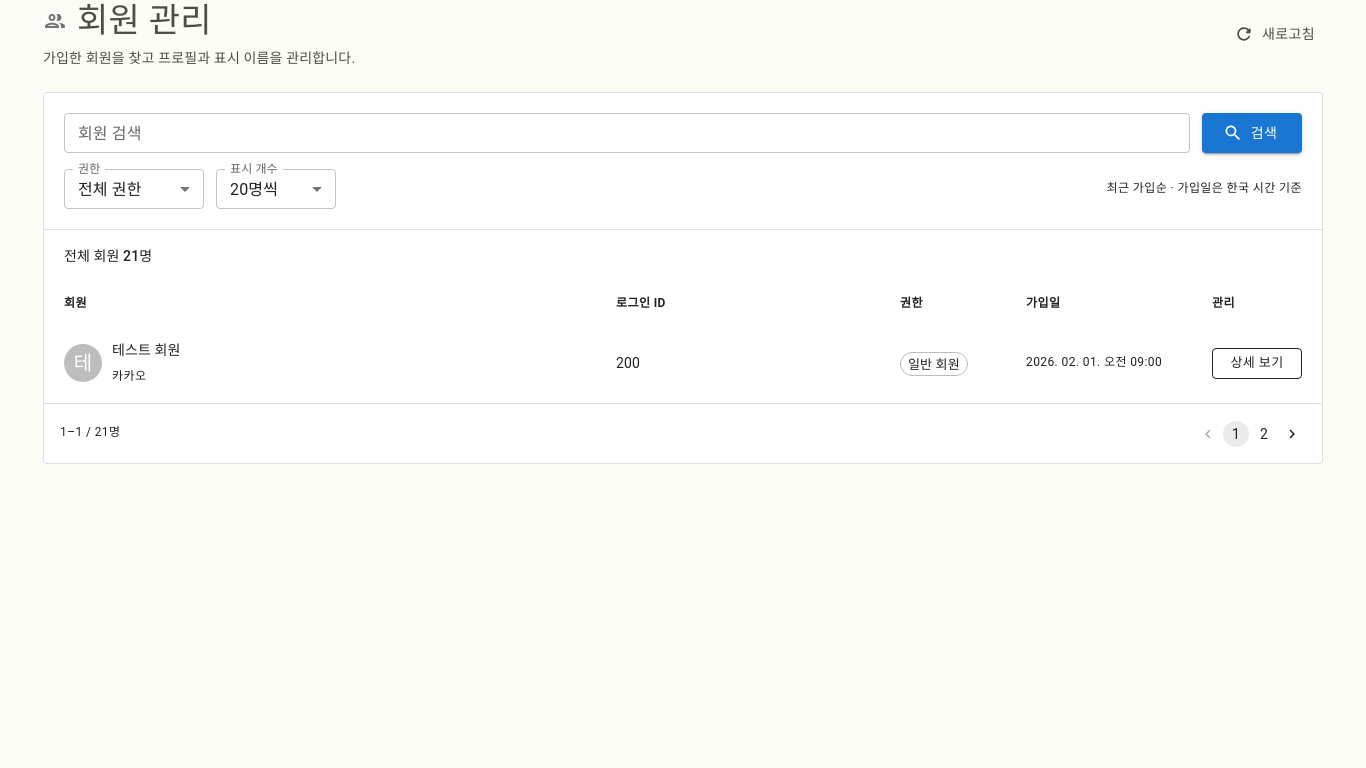
member management › updates the signed-in profile after editing your own display name
Expected: the text "전체 회원 21명" is shown, [64,248,152,264]
Click the button named "다음 페이지": [1292, 434] box [1279,421,1305,447]
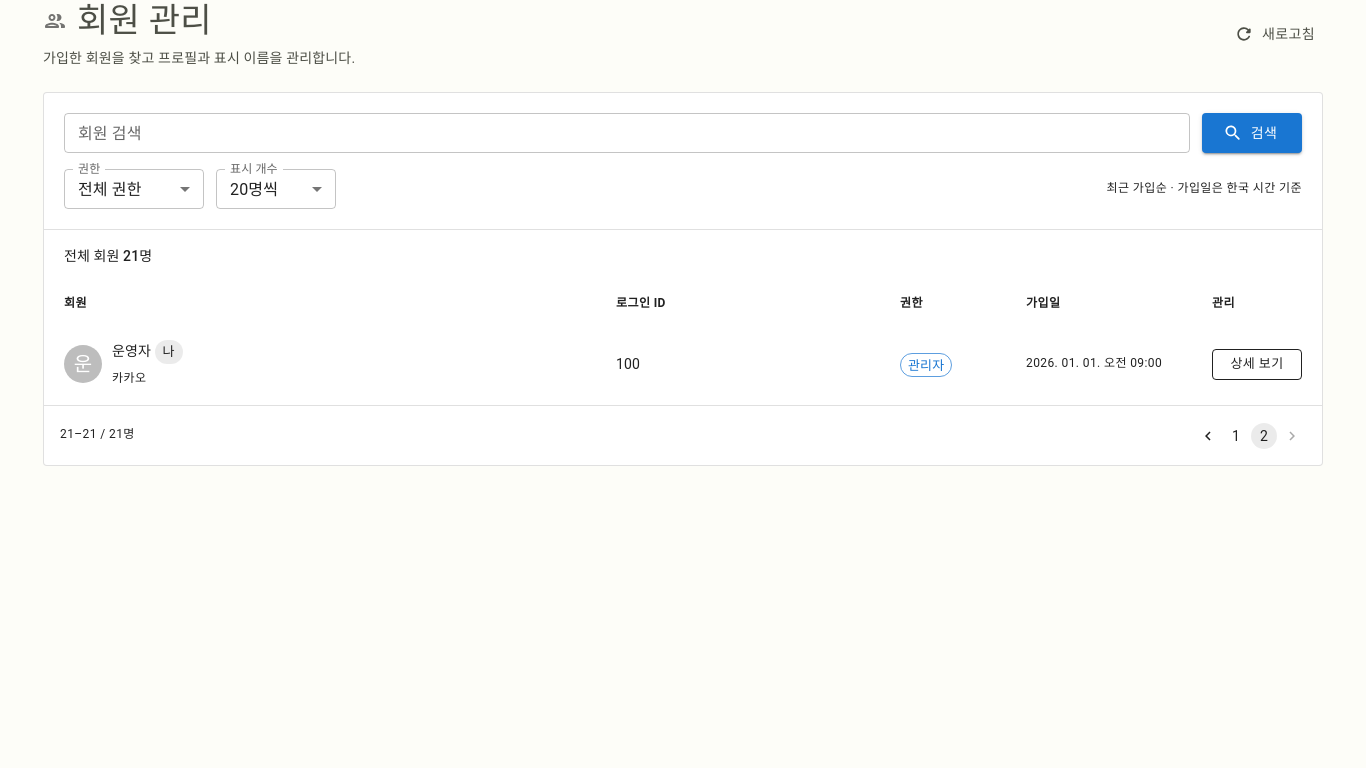
Click the button with aria-label "운영자 상세 보기": [1257, 364] box [1212,349,1302,380]
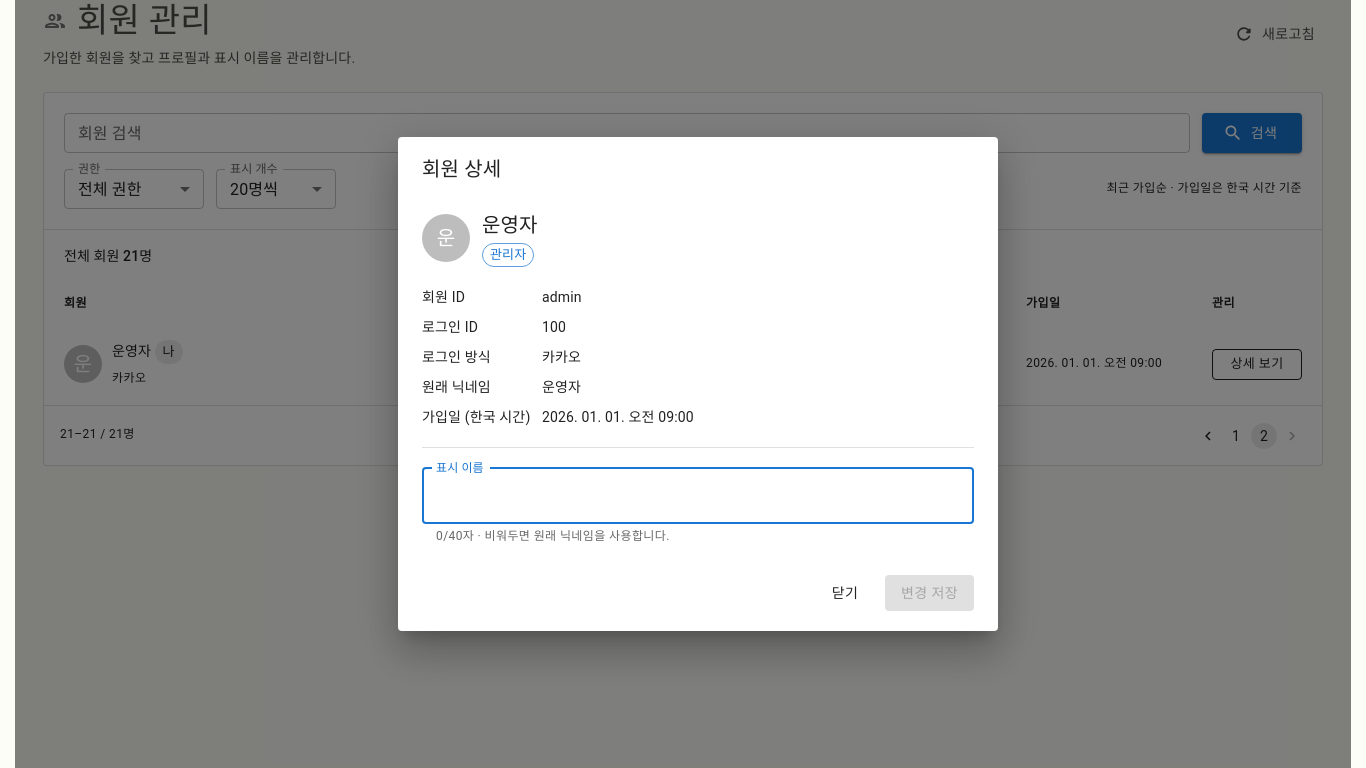
In the field labelled "표시 이름": [698, 496] box [422,468,974,524], type "새 운영자"
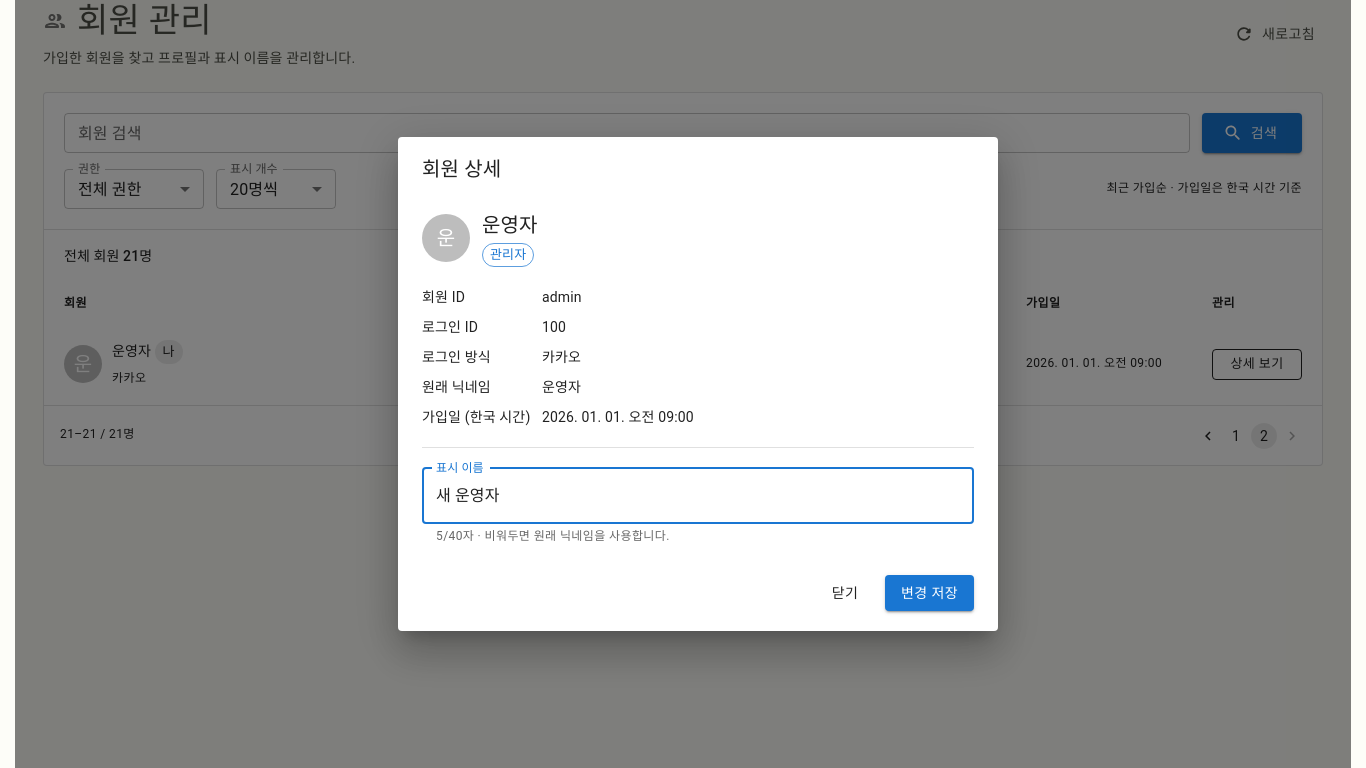
Click the button "변경 저장": [930, 593] box [885,575,974,611]
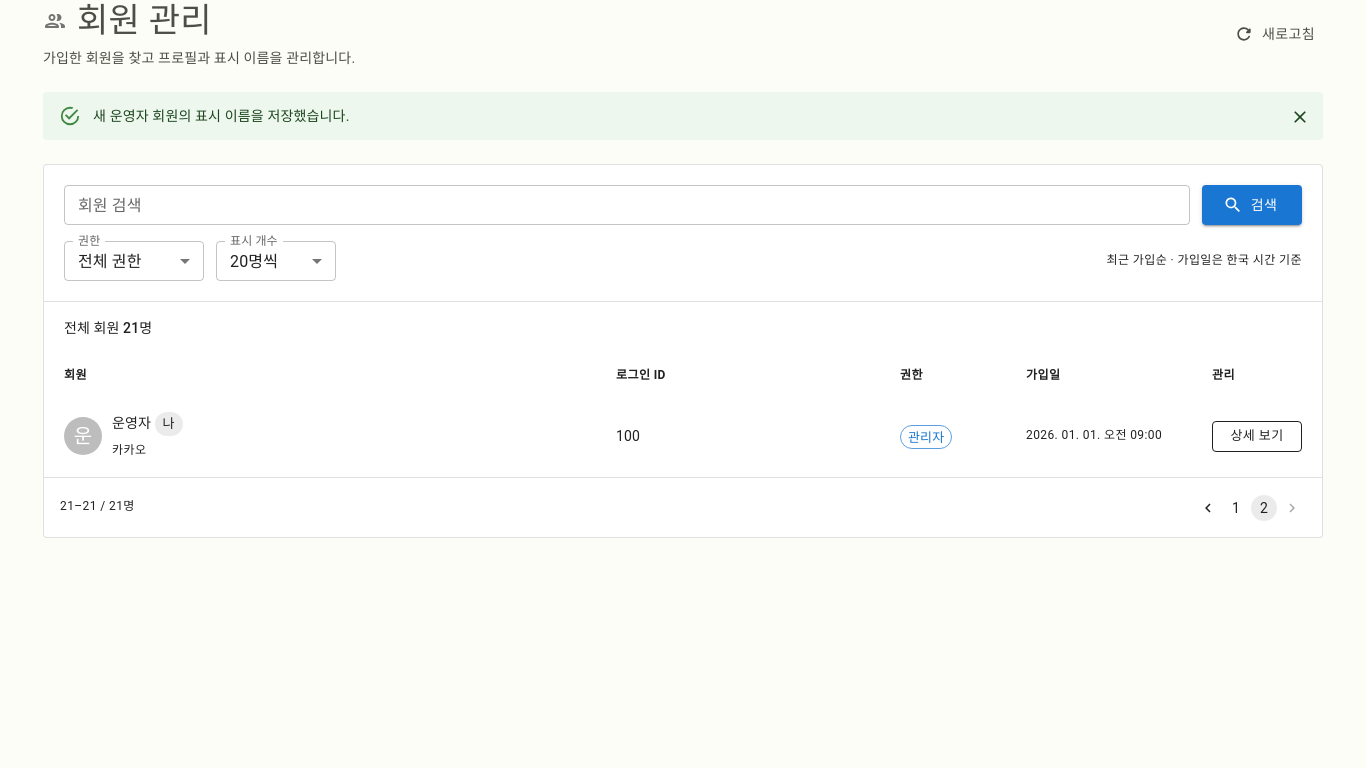
Expected: the text "새 운영자 회원의 표시 이름을 저장했습니다." is shown, [93,108,350,124]
